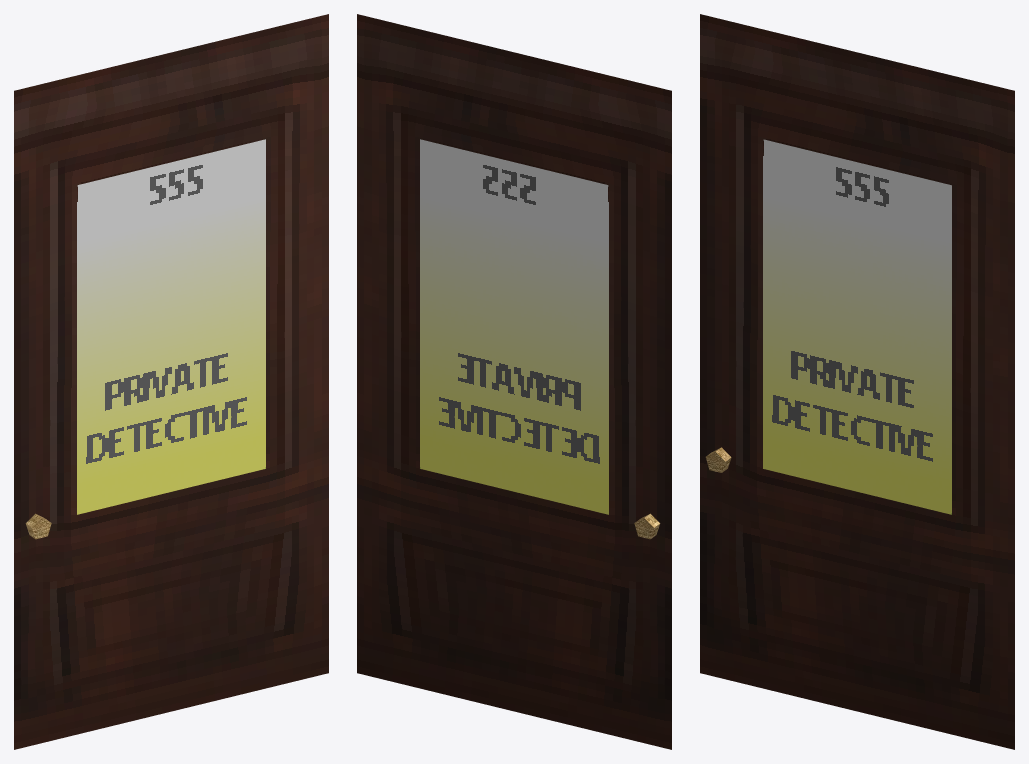
Rendered from object_door.glb.
The picture shows the model from 3 angles, left to right: view 1: azimuth 30°, elevation 25°; view 2: azimuth 150°, elevation 25°; view 3: azimuth 330°, elevation 25°; orthographic projection.
Parts seen in each view (by area): view 1: Door; view 2: Door; view 3: Door.
Boxes of the visible parts, bbox=[...] form: Door: bbox=[14, 14, 328, 749]; Door: bbox=[357, 14, 671, 749]; Door: bbox=[700, 14, 1014, 749].
Size of the model in its own units: 1.5 by 3 by 0.1.
1 material, 1 textured.
